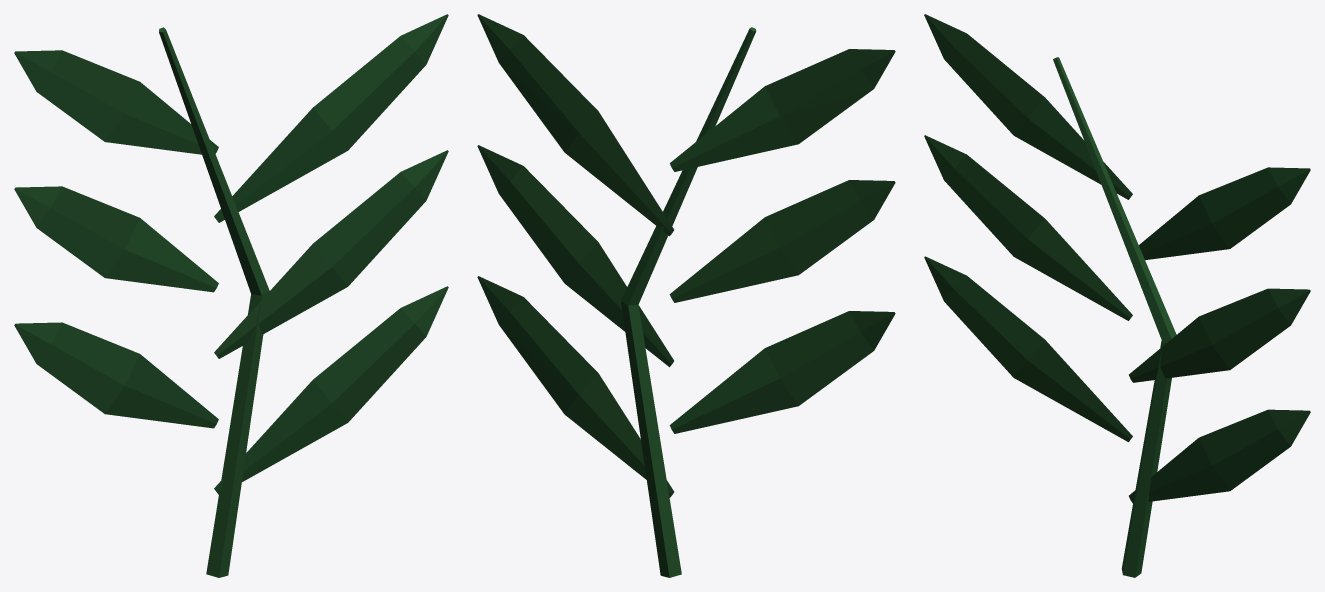
Rendered from N24_Waterweed.fbx.
3 views of the same model, side by side, from view 1: azimuth 30°, elevation 25°; view 2: azimuth 150°, elevation 25°; view 3: azimuth 330°, elevation 25° (orthographic). The views are drawn at different scales.
Visible parts, largest first — view 1: N24_Waterweed; view 2: N24_Waterweed; view 3: N24_Waterweed.
Boxes of the visible parts, bbox=[...] form: N24_Waterweed: bbox=[14, 14, 448, 577]; N24_Waterweed: bbox=[477, 14, 895, 577]; N24_Waterweed: bbox=[924, 14, 1310, 577].
Size of the model in its own units: 0.5013 by 0.6474 by 0.0452.
1 material, 1 textured.
